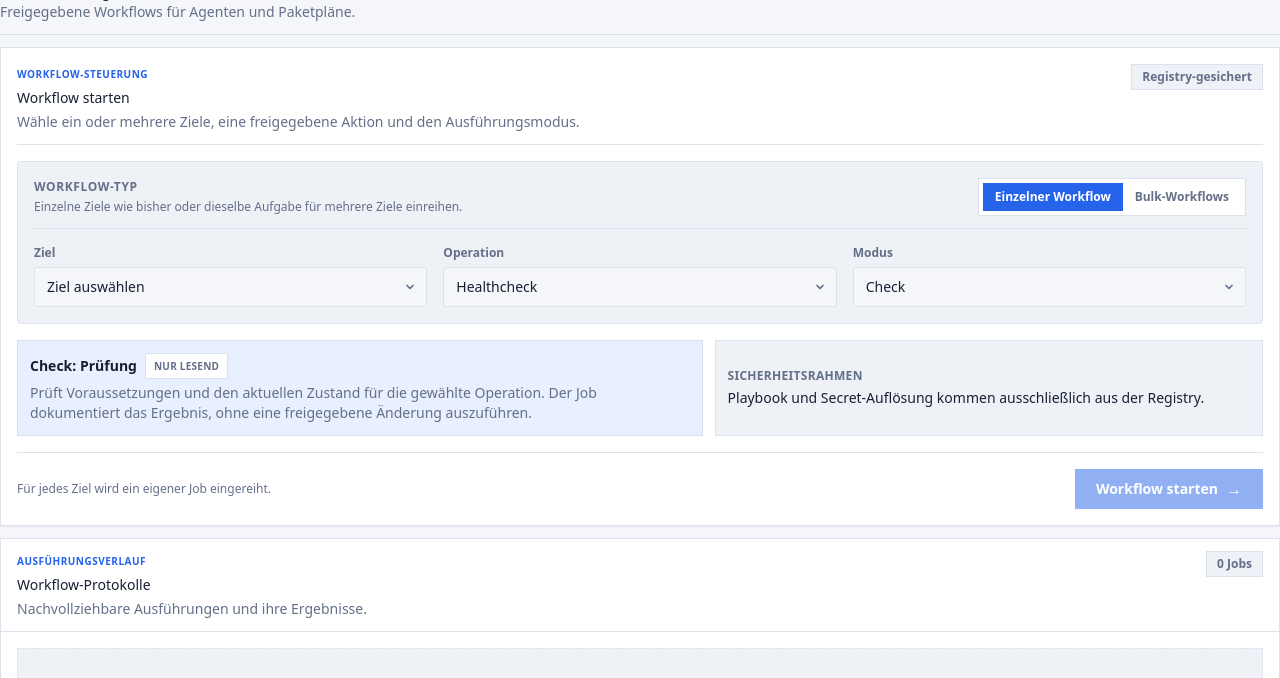
Scenario: workflow mode contract › enqueues one workflow job per selected target and shows each result
The width and height of the screenshot is (1280, 678).
Click the tab "Bulk-Workflows".
click(1182, 197)  # box [1123,183,1241,211]
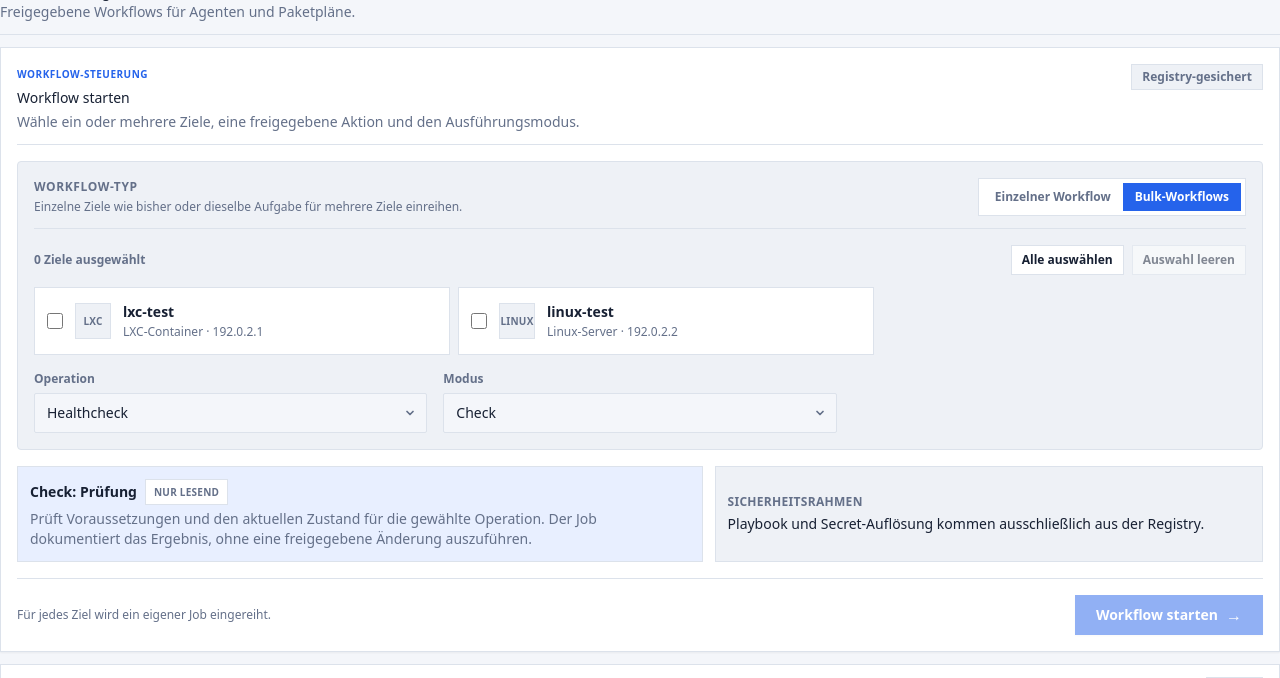
Click the checkbox named "Ziel auswählen: lxc-test".
click(55, 321)  # box [47,313,63,329]
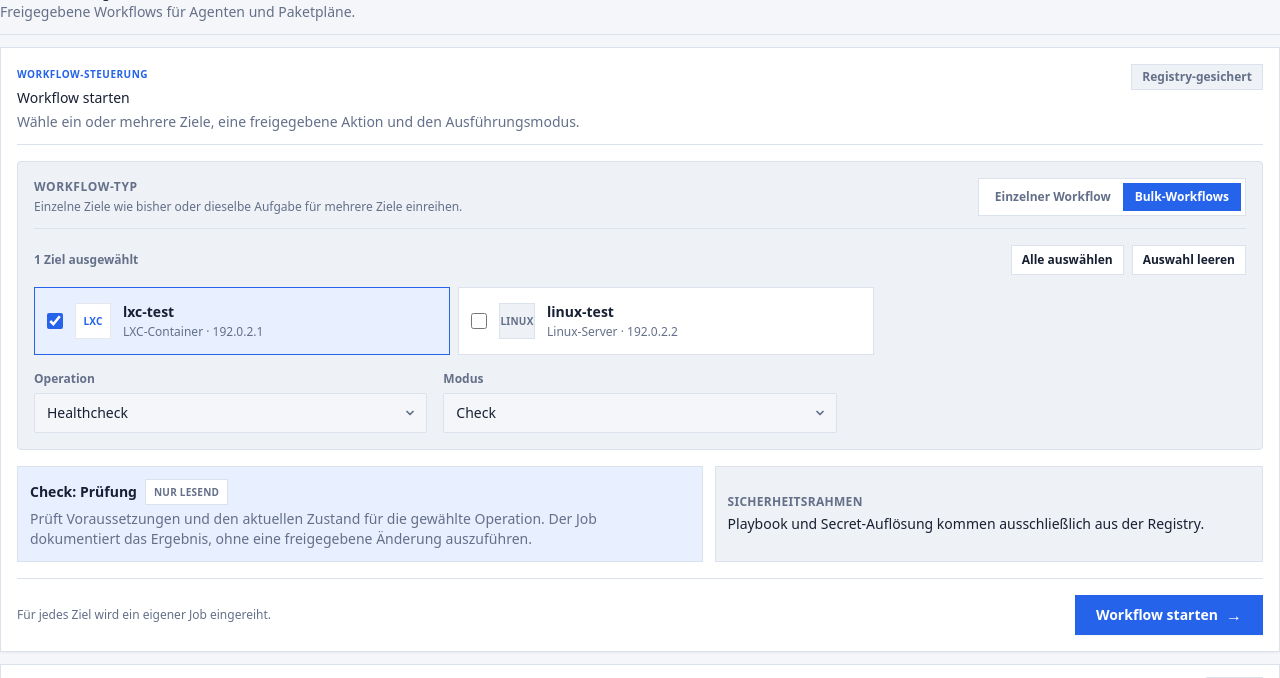
Click the checkbox named "Ziel auswählen: linux-test".
click(479, 321)  # box [471,313,487,329]
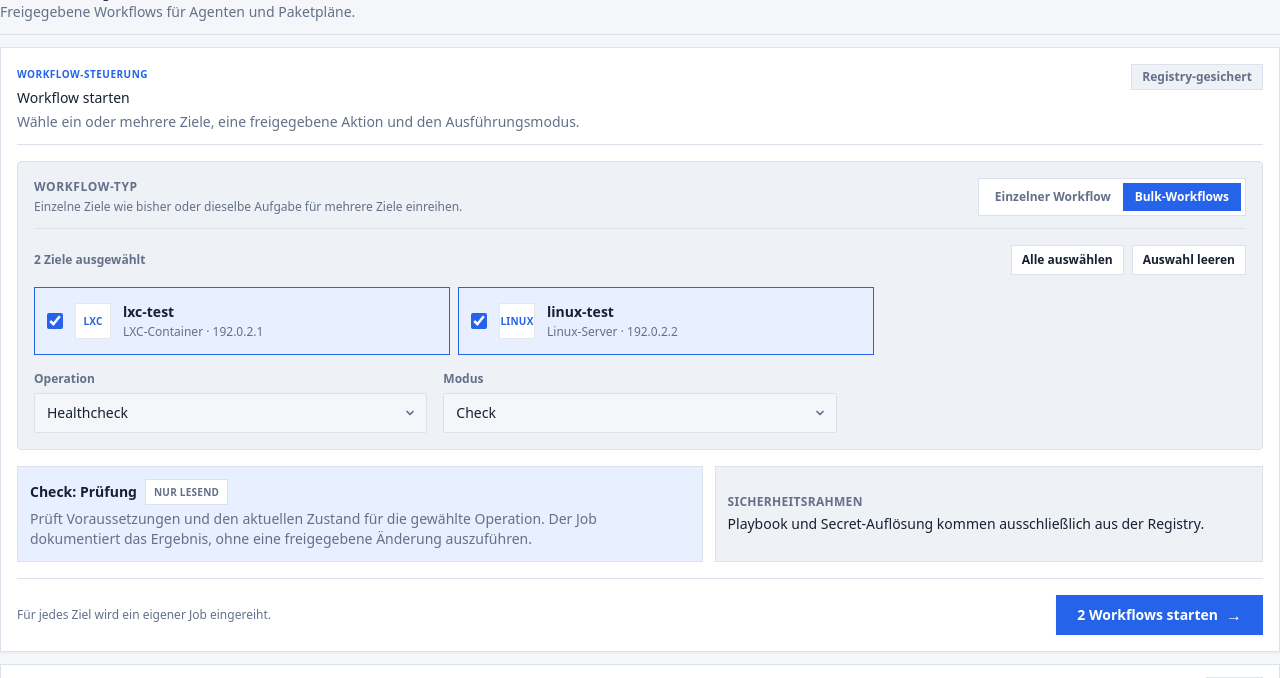
Click the button "2 Workflows starten →".
click(1160, 615)  # box [1056,595,1263,635]
(page scrolled)
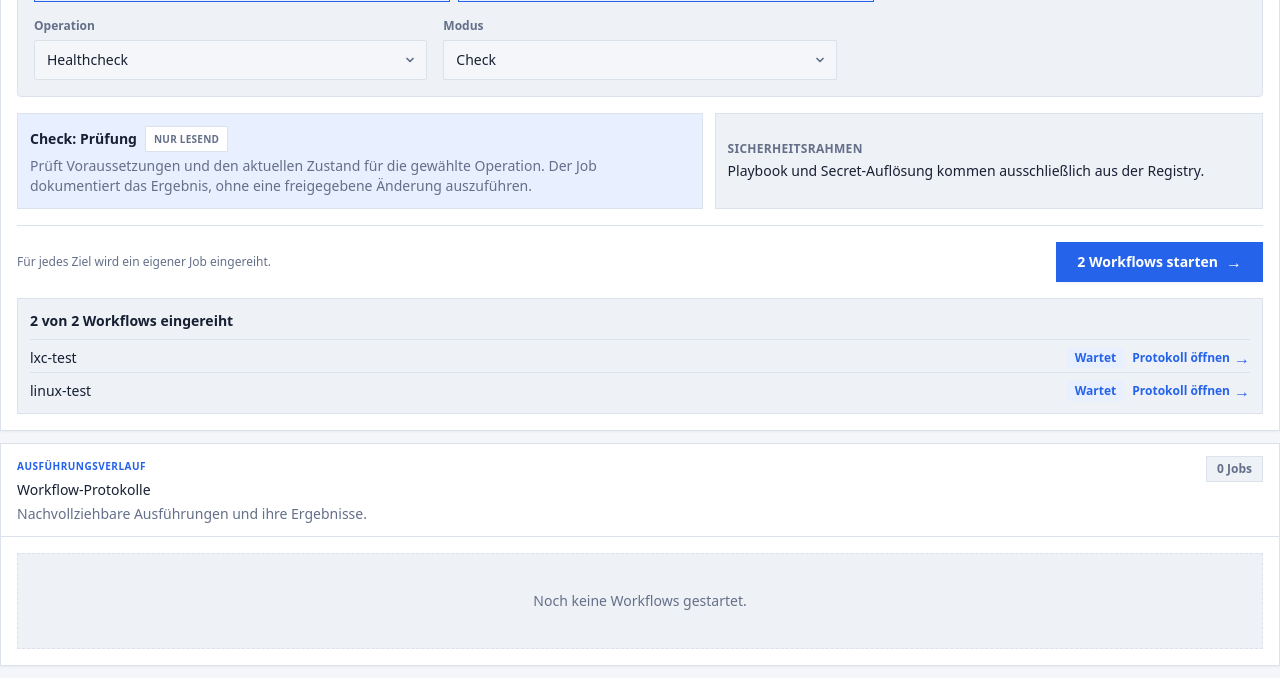
Result: the text "2 von 2 Workflows eingereiht" is shown at [30,311,233,330]
